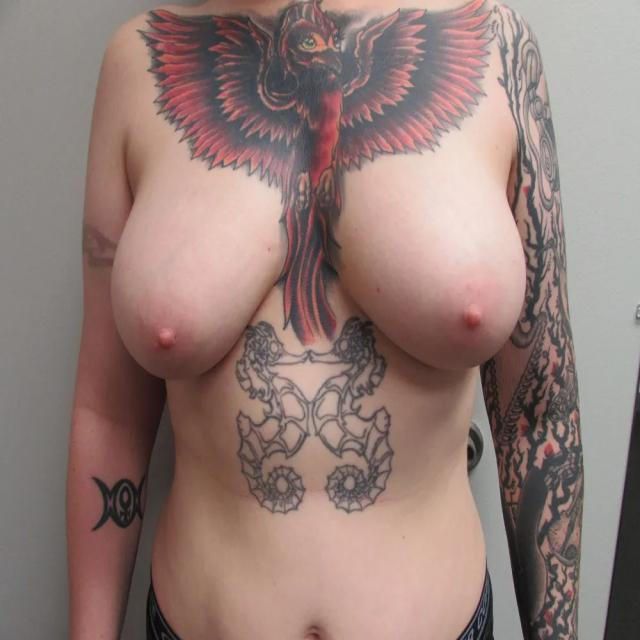Seno ileso: (320, 151, 532, 401), (104, 154, 300, 408)
